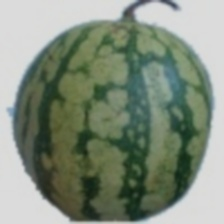watermelon: (0, 53, 201, 205)
